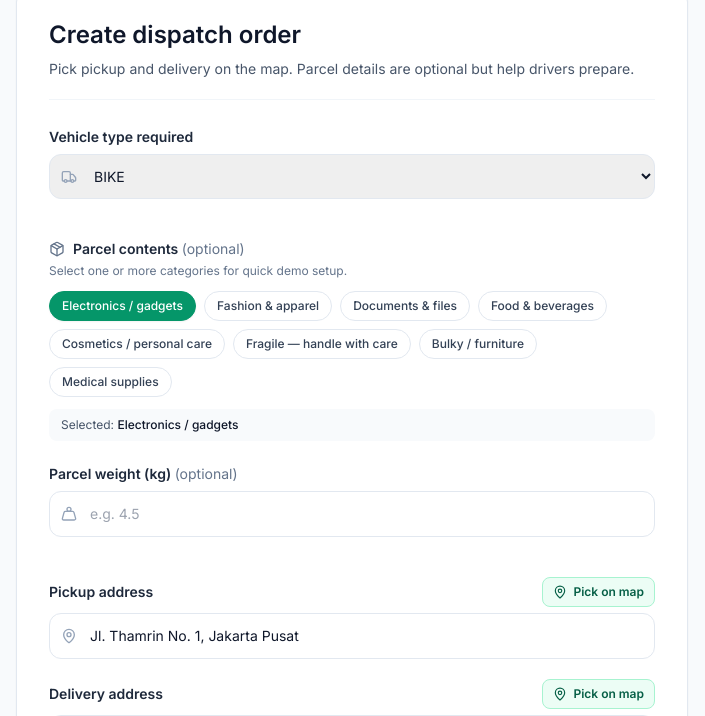
Test case: CreateOrderForm › shows parcel weight validation instead of crashing
This screenshot has width=705, height=716.
Step 1. Type "0" into the field labelled "Parcel weight (kg) (optional)" → (352, 514), box [49, 491, 655, 537]
(page scrolled)
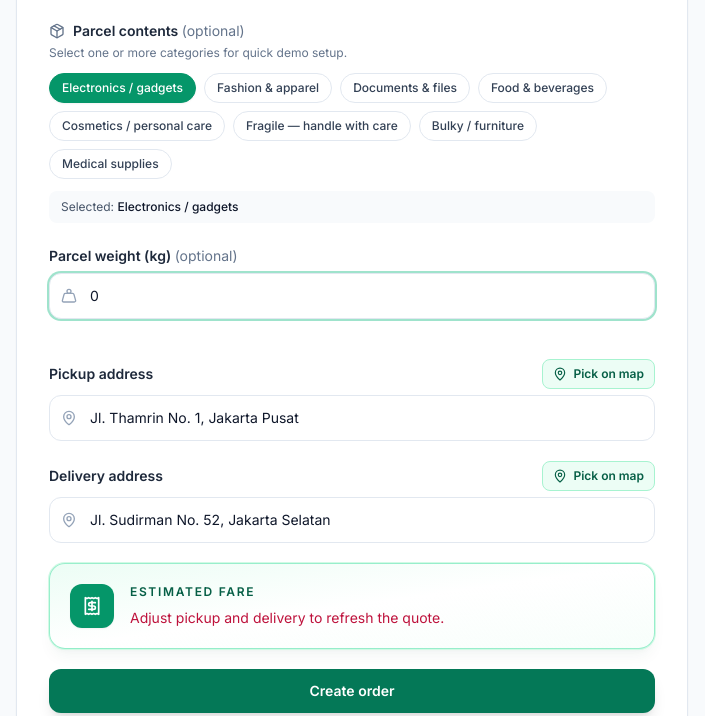
Step 2. Click the button "Create order" → (352, 691), box [49, 669, 655, 713]
(page scrolled)
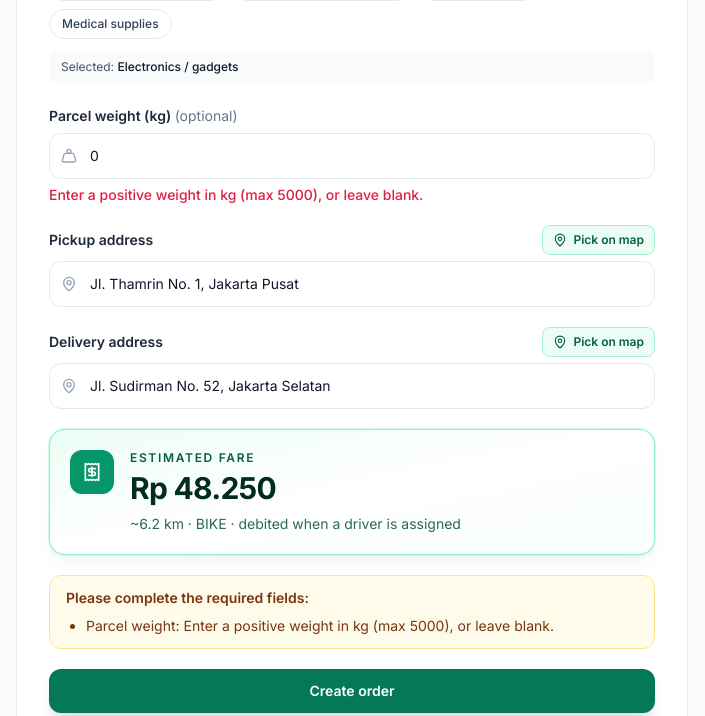
Now the list item "Parcel weight: Enter a positive weight in kg" is shown, box [86, 617, 554, 634]
